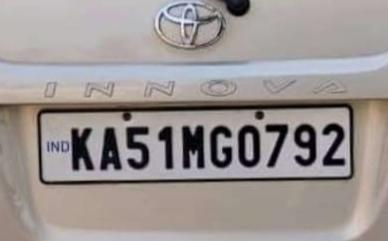0: (237, 122, 262, 170)
1: (155, 120, 178, 174)
2: (321, 120, 347, 170)
5: (122, 122, 152, 171)
7: (264, 118, 292, 169)
9: (291, 121, 320, 169)
A: (96, 123, 122, 174)
G: (207, 124, 235, 171)
K: (65, 122, 96, 174)
M: (180, 122, 207, 172)
